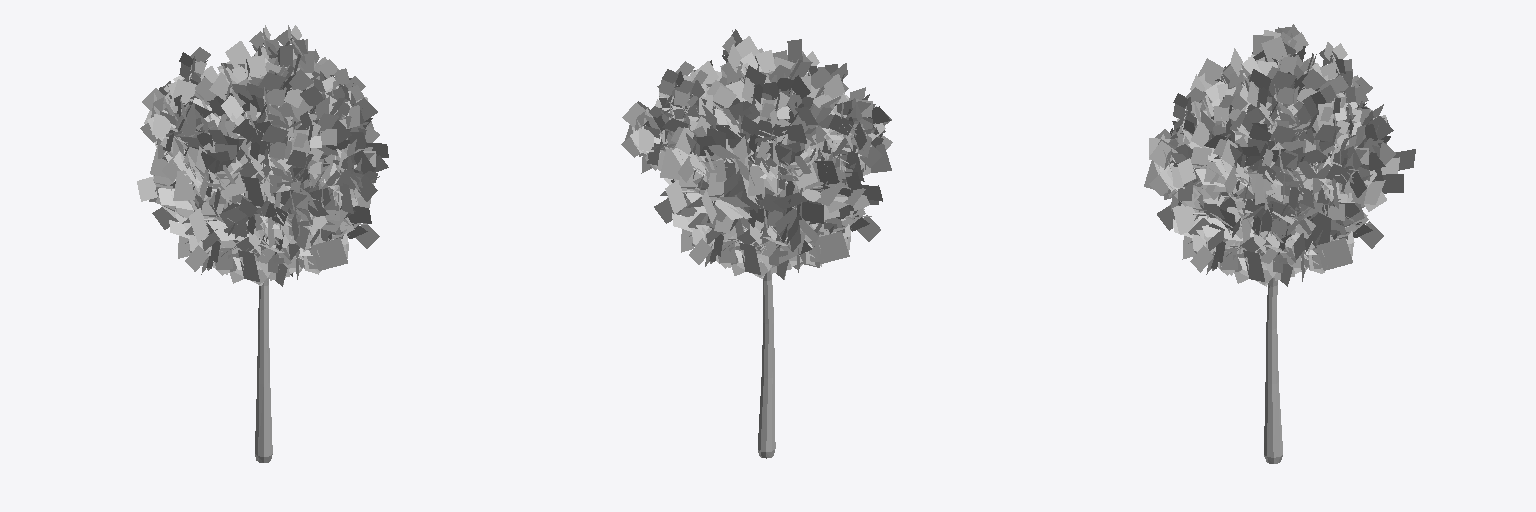
Rendered from tree.obj.
3 views of the same model, side by side, from view 1: azimuth 30°, elevation 25°; view 2: azimuth 150°, elevation 25°; view 3: azimuth 270°, elevation 25° (orthographic).
Visible parts, largest first — view 1: tak_Mesh; view 2: tak_Mesh; view 3: tak_Mesh.
Part boxes in pixels (x1,y1,x2,y2): tak_Mesh: (137,25,388,462); tak_Mesh: (621,29,892,458); tak_Mesh: (1144,24,1415,463).
Size of the model in its own units: 25.99 by 43.63 by 26.56.